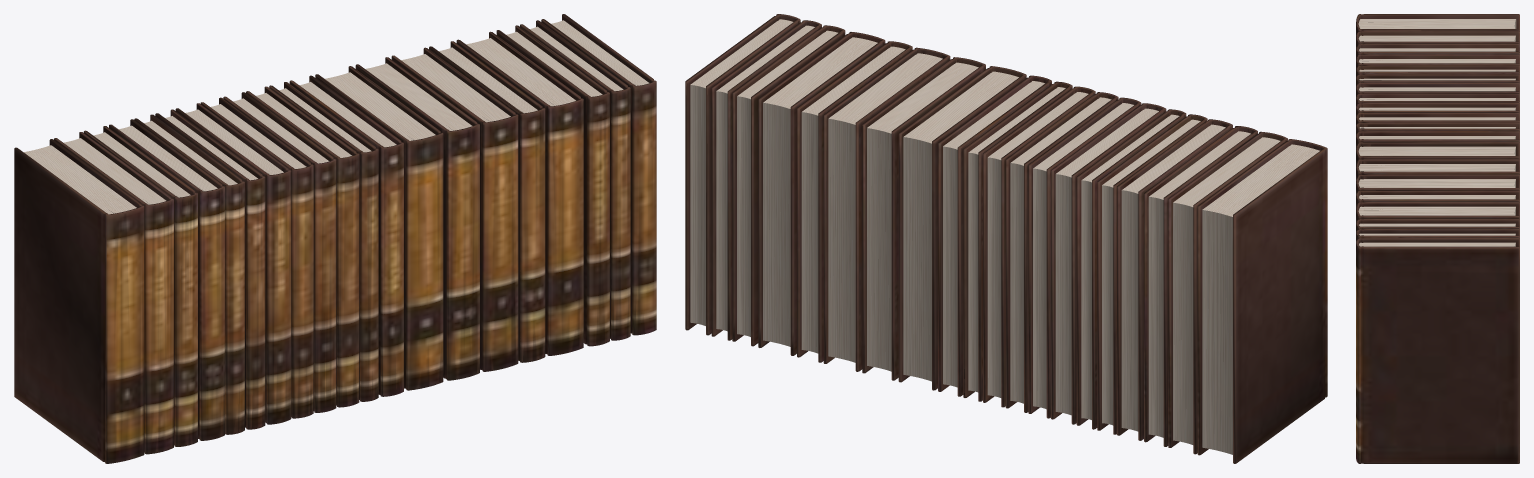
File: books-encyclopedia.e9809416.glb
3 views of the same model, side by side, from view 1: azimuth 30°, elevation 25°; view 2: azimuth 150°, elevation 25°; view 3: azimuth 270°, elevation 25° (orthographic). The views are drawn at different scales.
Visible parts, largest first — view 1: model; view 2: model; view 3: model.
Part boxes in pixels (x1,y1,x2,y2): model: (14, 14, 656, 463); model: (685, 14, 1327, 463); model: (1356, 14, 1519, 463).
Size of the model in its own units: 0.5513 by 0.2374 by 0.1631.
Materials: 2 (2 with a texture image).
